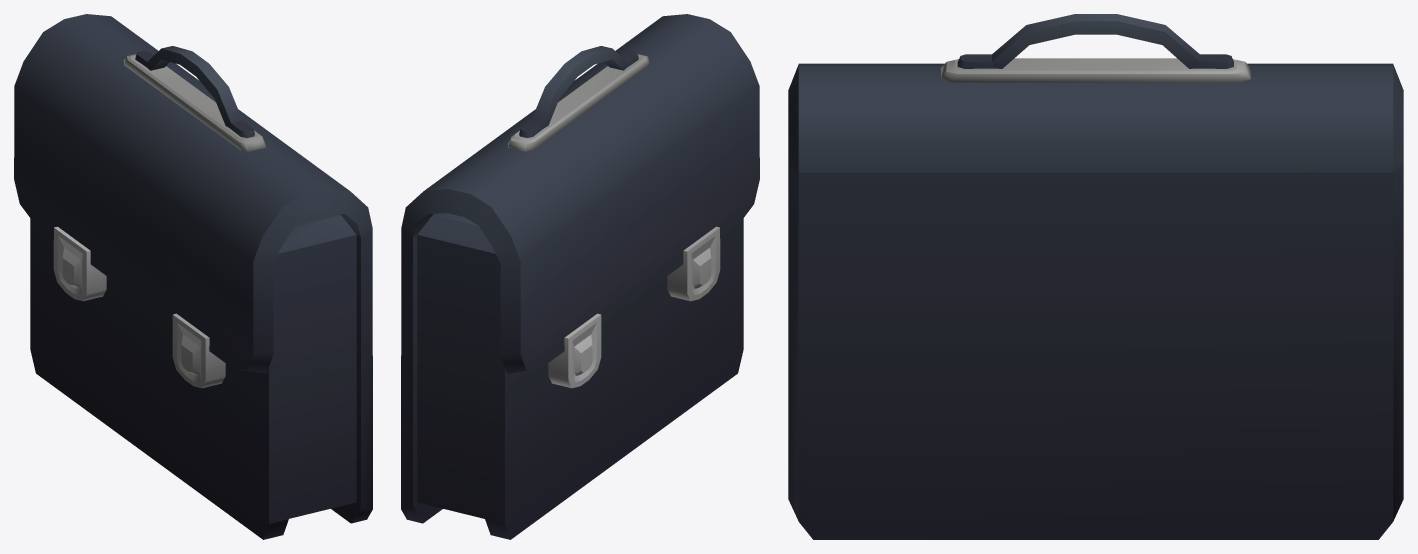
Rendered from Suitcase_1_1_M.fbx.
The picture shows the model from 3 angles, left to right: view 1: azimuth 30°, elevation 25°; view 2: azimuth 150°, elevation 25°; view 3: azimuth 270°, elevation 25°; orthographic projection. The views are drawn at different scales.
Parts seen in each view (by area): view 1: Suitcase_1_1_M; view 2: Suitcase_1_1_M; view 3: Suitcase_1_1_M.
Part boxes in pixels (x1,y1,x2,y2): Suitcase_1_1_M: (14,14,372,539); Suitcase_1_1_M: (401,14,759,539); Suitcase_1_1_M: (788,14,1403,539).
Size of the model in its own units: 16.04 by 47.79 by 54.73.
